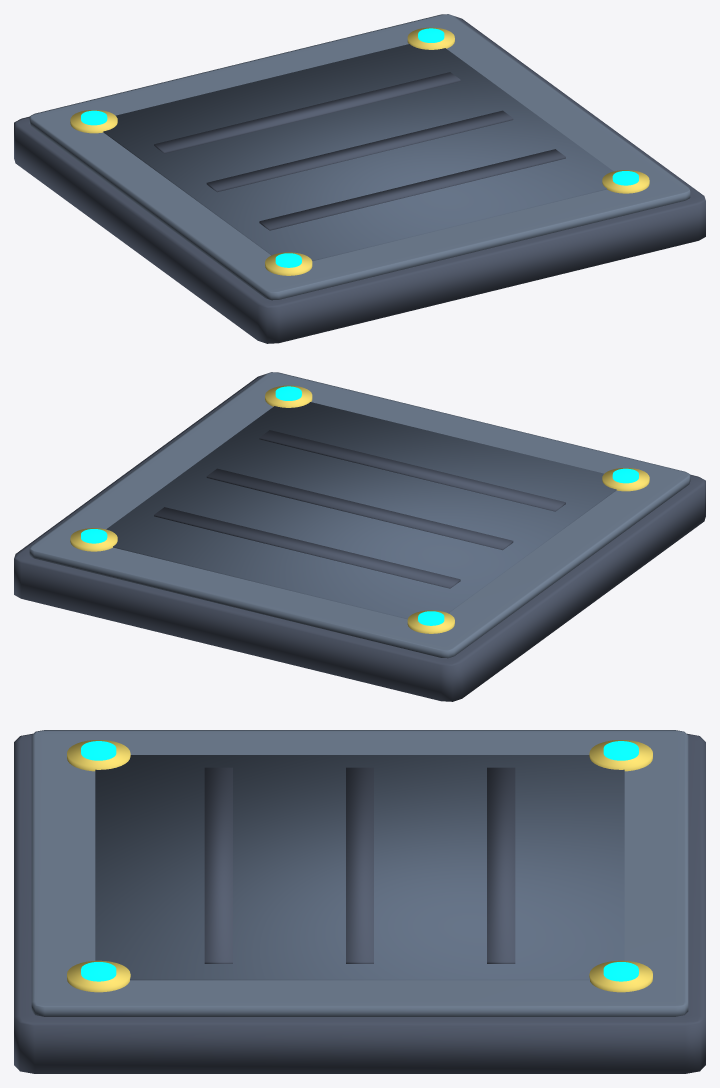
Rendered from floor-tile.glb.
3 renders of one model, top to bottom at view 1: azimuth 30°, elevation 25°; view 2: azimuth 150°, elevation 25°; view 3: azimuth 270°, elevation 25°, orthographic. The views are drawn at different scales.
Parts seen in each view (by area): view 1: FloorTile; view 2: FloorTile; view 3: FloorTile.
Boxes of the visible parts, box(x1,y1,x2,y2) form: FloorTile: box(14, 14, 705, 343); FloorTile: box(14, 372, 705, 701); FloorTile: box(14, 730, 705, 1073).
Size of the model in its own units: 1.96 by 0.22 by 1.96.
